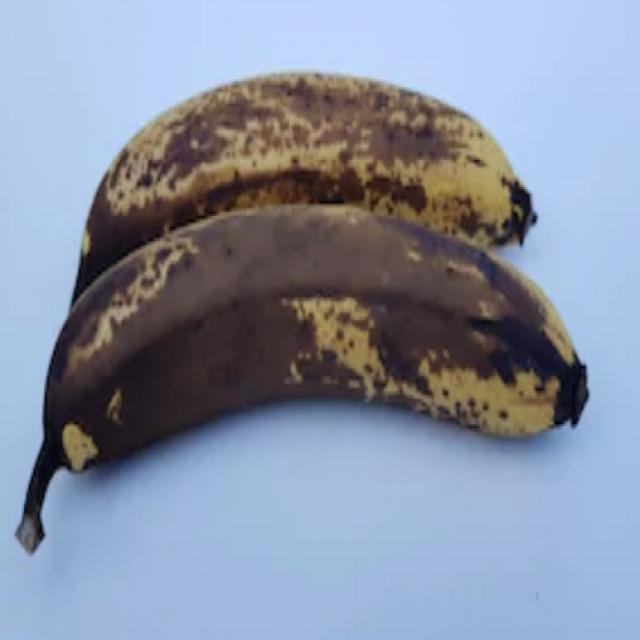rotten-banana: (37, 202, 586, 479), (73, 74, 527, 232)
